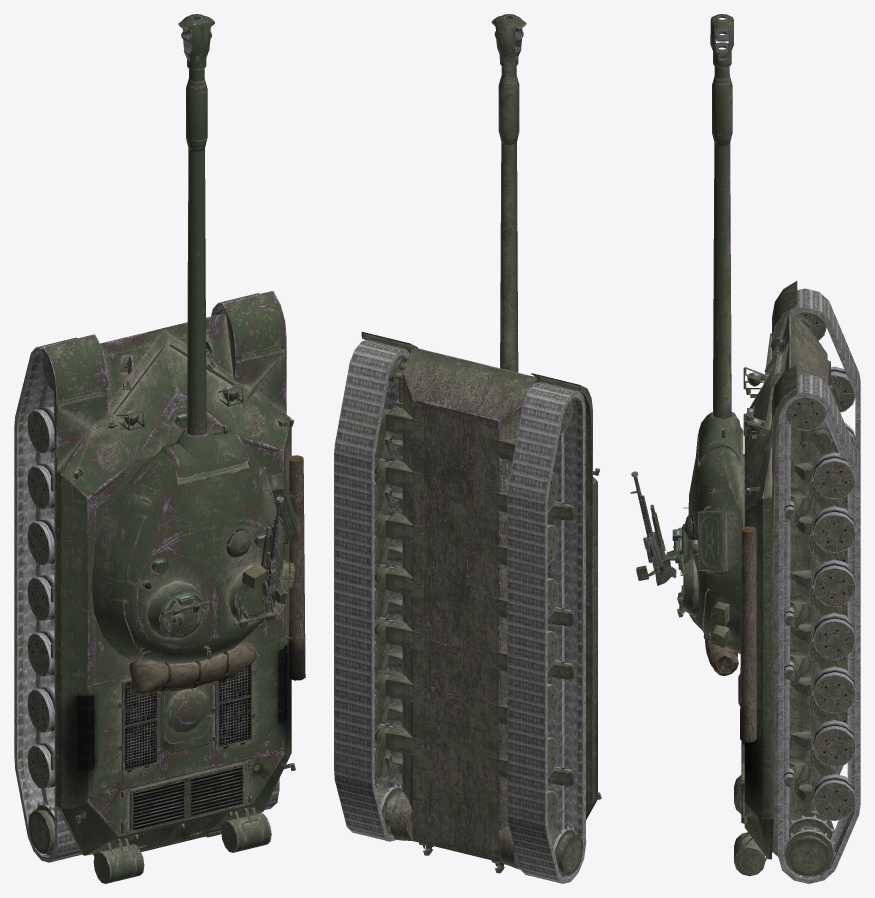
3 renders of one model, left to right at view 1: azimuth 30°, elevation 25°; view 2: azimuth 150°, elevation 25°; view 3: azimuth 270°, elevation 25°, orthographic. The views are drawn at different scales.
Visible parts, largest first — view 1: hull, turret_01, hull_nc, chassis_track_L, turret_01_nc, gun_01, gun_01_mask, chassis_wheel_L_13, chassis_wheel_L_05, chassis_wheel_L_10, chassis_wheel_L_02, chassis_wheel_L_07 (+3 smaller); view 2: hull, chassis_track_L, chassis_track_R, hull_nc, gun_01, chassis_wheel_L_13, chassis_wheel_R_13; view 3: hull, hull_nc, chassis_track_R, turret_01, gun_01, turret_01_nc, chassis_wheel_R_13, chassis_track_L, chassis_wheel_R_09, chassis_wheel_R_04, chassis_wheel_R_07, chassis_wheel_R_10 (+6 smaller).
Boxes of the visible parts, left/top/right/bottom form: hull: left=55, top=313, right=291, bottom=856; turret_01: left=91, top=440, right=284, bottom=663; hull_nc: left=43, top=290, right=305, bottom=883; chassis_track_L: left=14, top=337, right=81, bottom=862; turret_01_nc: left=122, top=467, right=298, bottom=696; gun_01: left=178, top=14, right=214, bottom=435; gun_01_mask: left=160, top=429, right=248, bottom=478; chassis_wheel_L_13: left=28, top=801, right=54, bottom=855; chassis_wheel_L_05: left=27, top=518, right=54, bottom=565; chassis_wheel_L_10: left=27, top=685, right=54, bottom=732; chassis_wheel_L_02: left=27, top=406, right=54, bottom=453; chassis_wheel_L_07: left=27, top=573, right=54, bottom=620; hull: left=390, top=347, right=597, bottom=869; chassis_track_L: left=507, top=382, right=586, bottom=883; chassis_track_R: left=334, top=339, right=409, bottom=841; hull_nc: left=361, top=331, right=601, bottom=873; gun_01: left=491, top=14, right=526, bottom=372; chassis_wheel_L_13: left=549, top=826, right=583, bottom=876; chassis_wheel_R_13: left=375, top=783, right=402, bottom=834; hull: left=741, top=311, right=835, bottom=859; hull_nc: left=734, top=281, right=839, bottom=876; chassis_track_R: left=778, top=373, right=860, bottom=883; turret_01: left=672, top=427, right=744, bottom=653; gun_01: left=710, top=14, right=733, bottom=417; turret_01_nc: left=630, top=471, right=738, bottom=675; chassis_wheel_R_13: left=783, top=815, right=835, bottom=876; chassis_track_L: left=791, top=288, right=860, bottom=774; chassis_wheel_R_09: left=813, top=666, right=855, bottom=713; chassis_wheel_R_04: left=813, top=506, right=855, bottom=553; chassis_wheel_R_07: left=813, top=613, right=855, bottom=659; chassis_wheel_R_10: left=813, top=720, right=855, bottom=767.
Size of the model in its own units: 3.47 by 12.03 by 3.06.
Materials: 2 (2 with a texture image).
